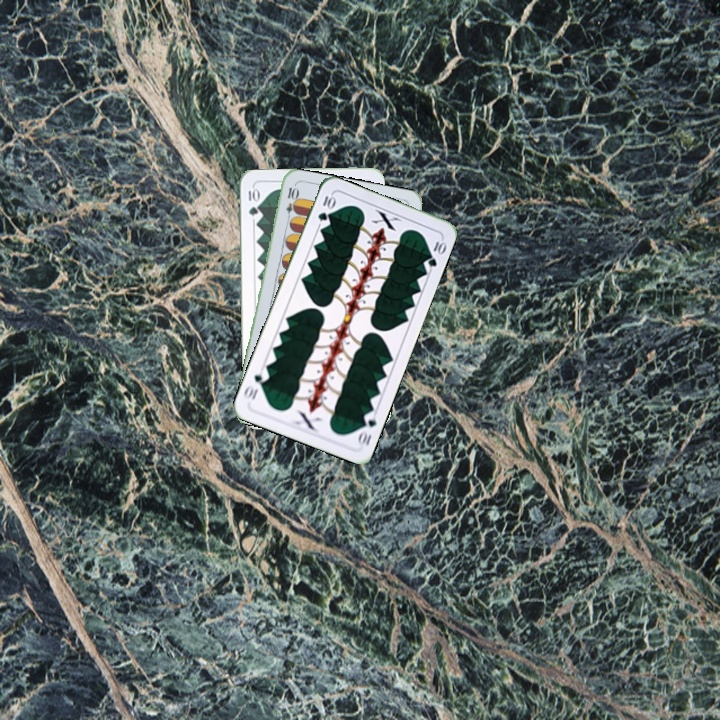E10: (282, 183, 299, 224)
G10: (354, 408, 379, 449), (314, 190, 337, 224), (244, 185, 260, 218)
